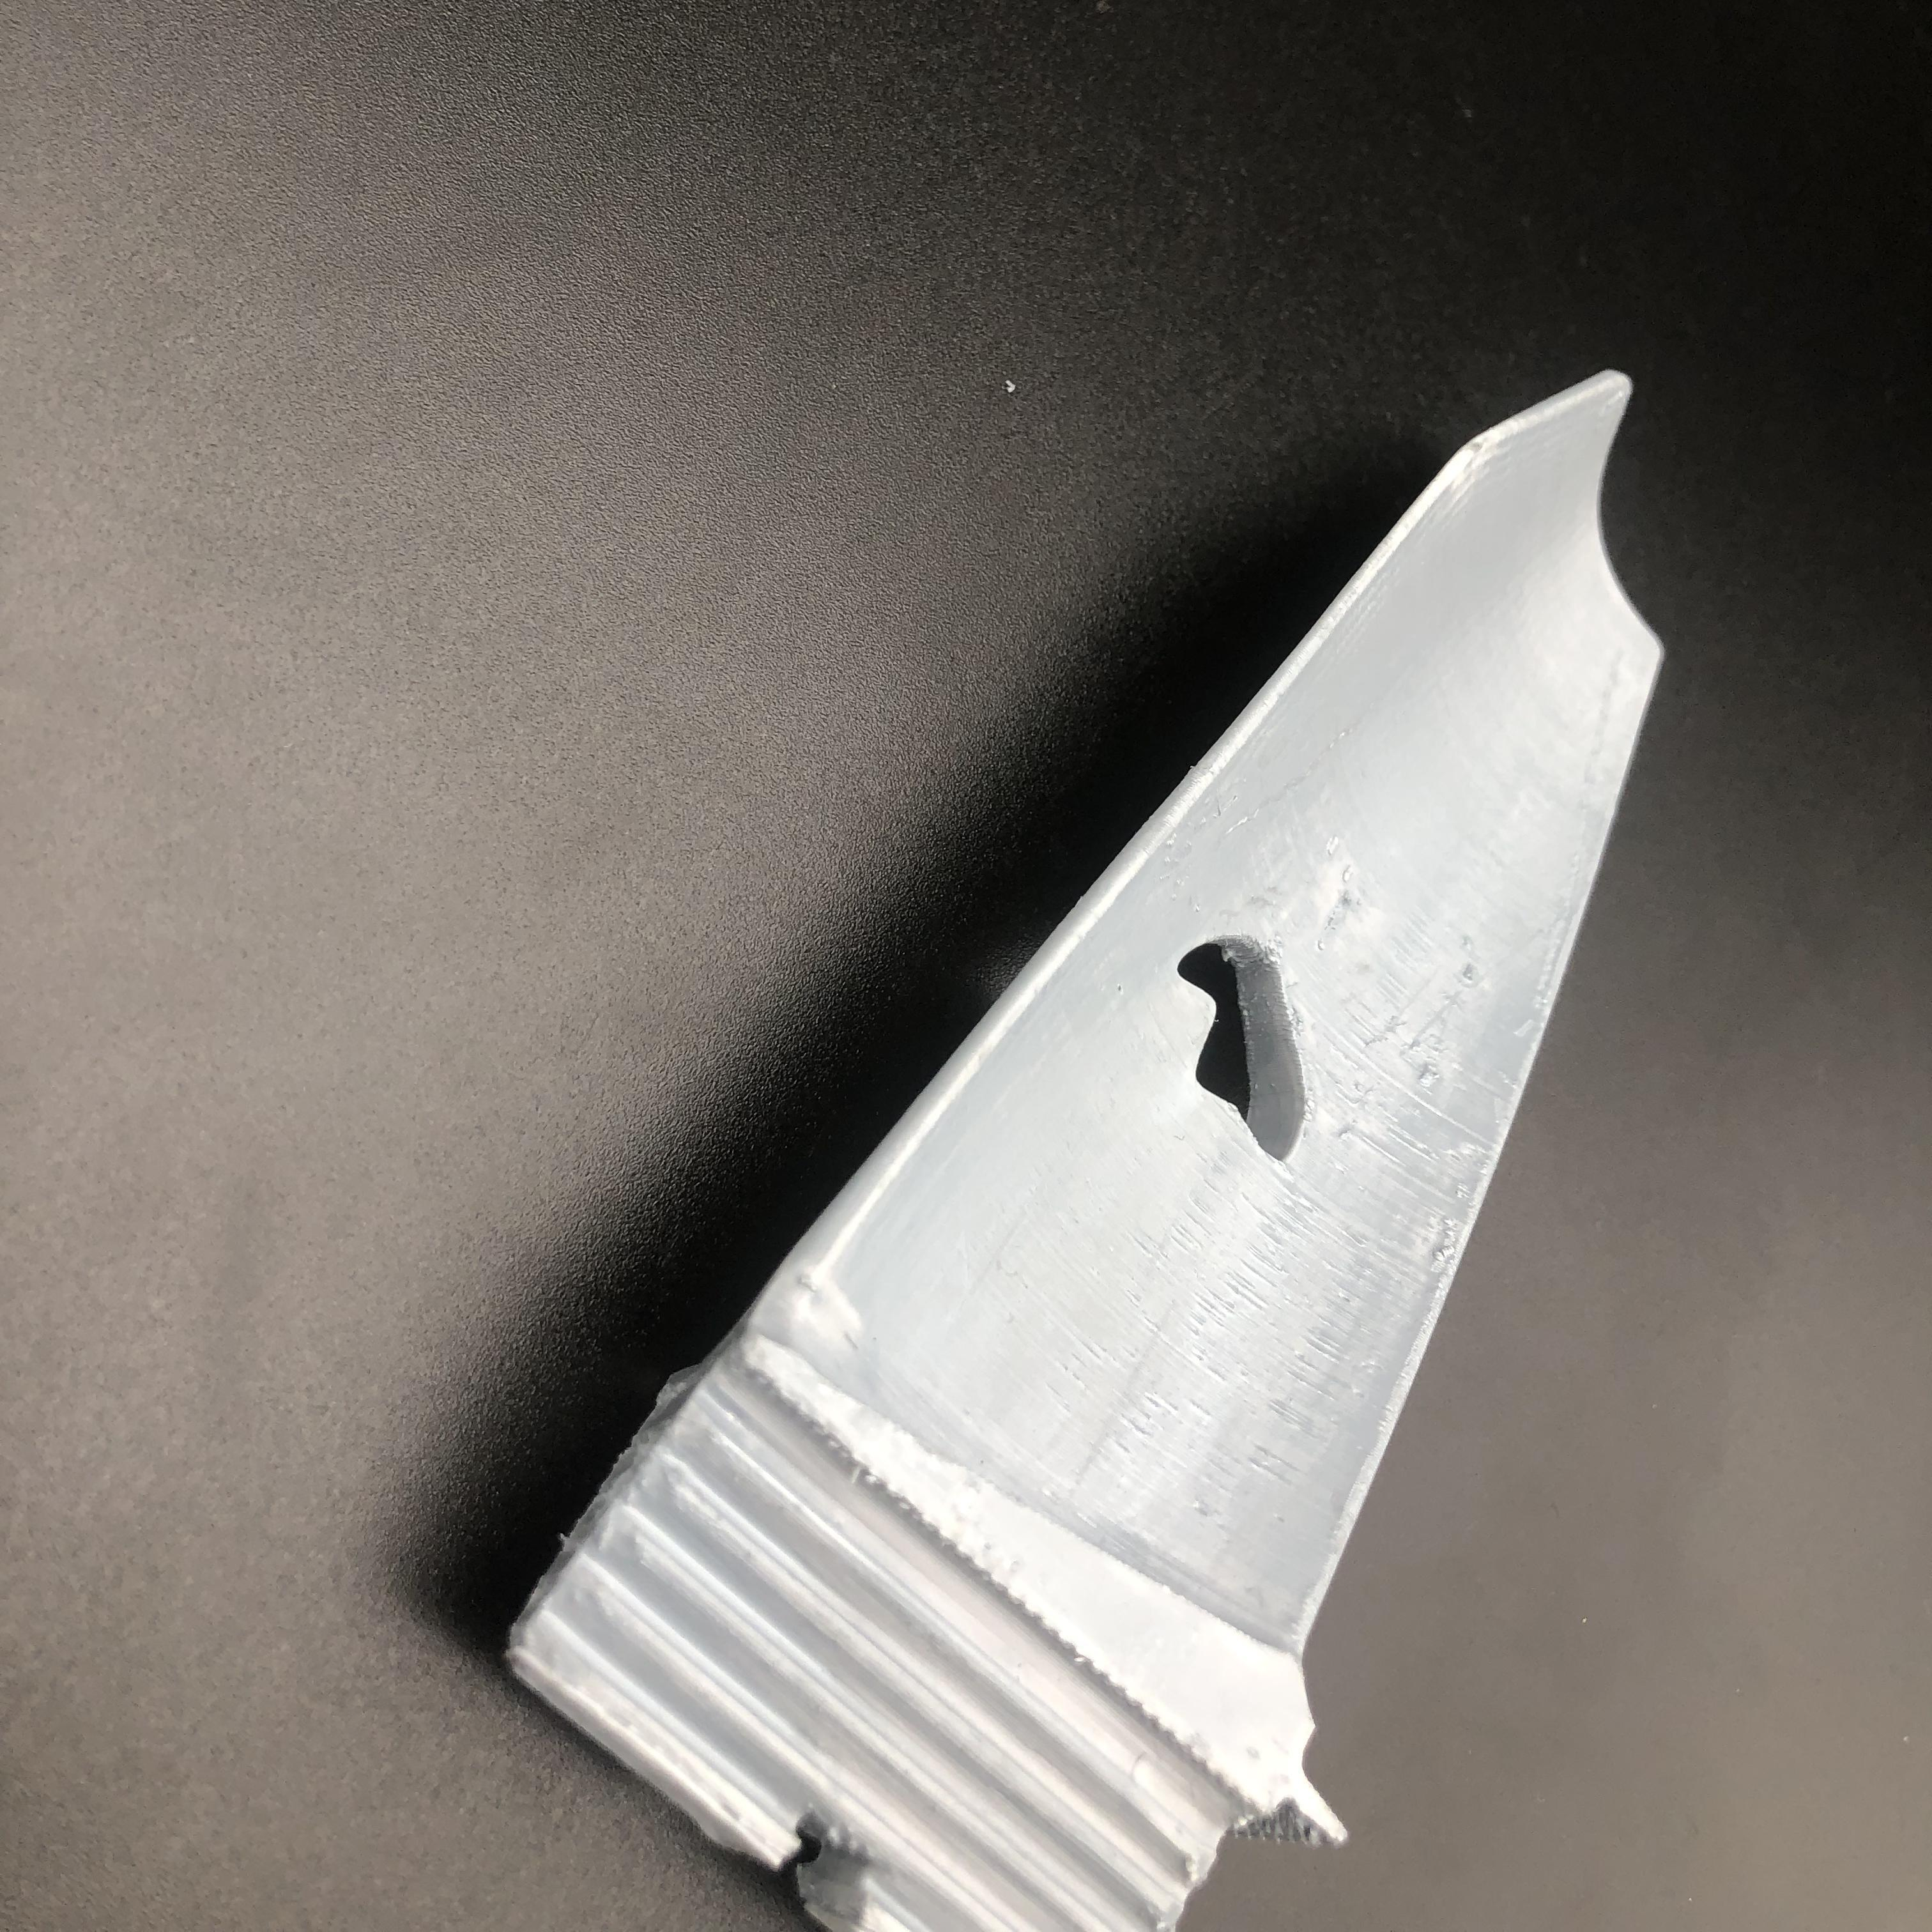breakdown: (1164, 922, 1334, 1169)
